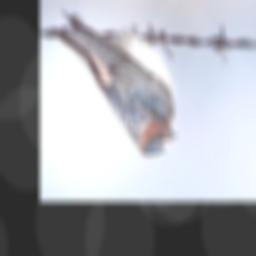Swallow: (51, 7, 177, 157)
